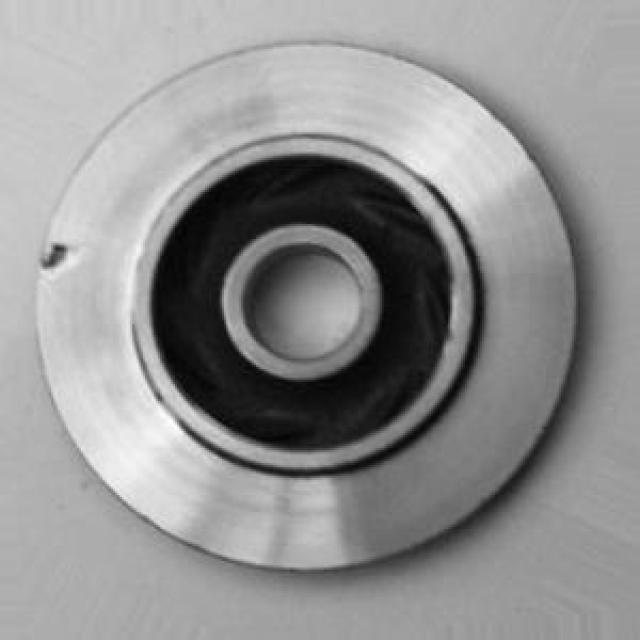Defect: (37, 234, 77, 279)
